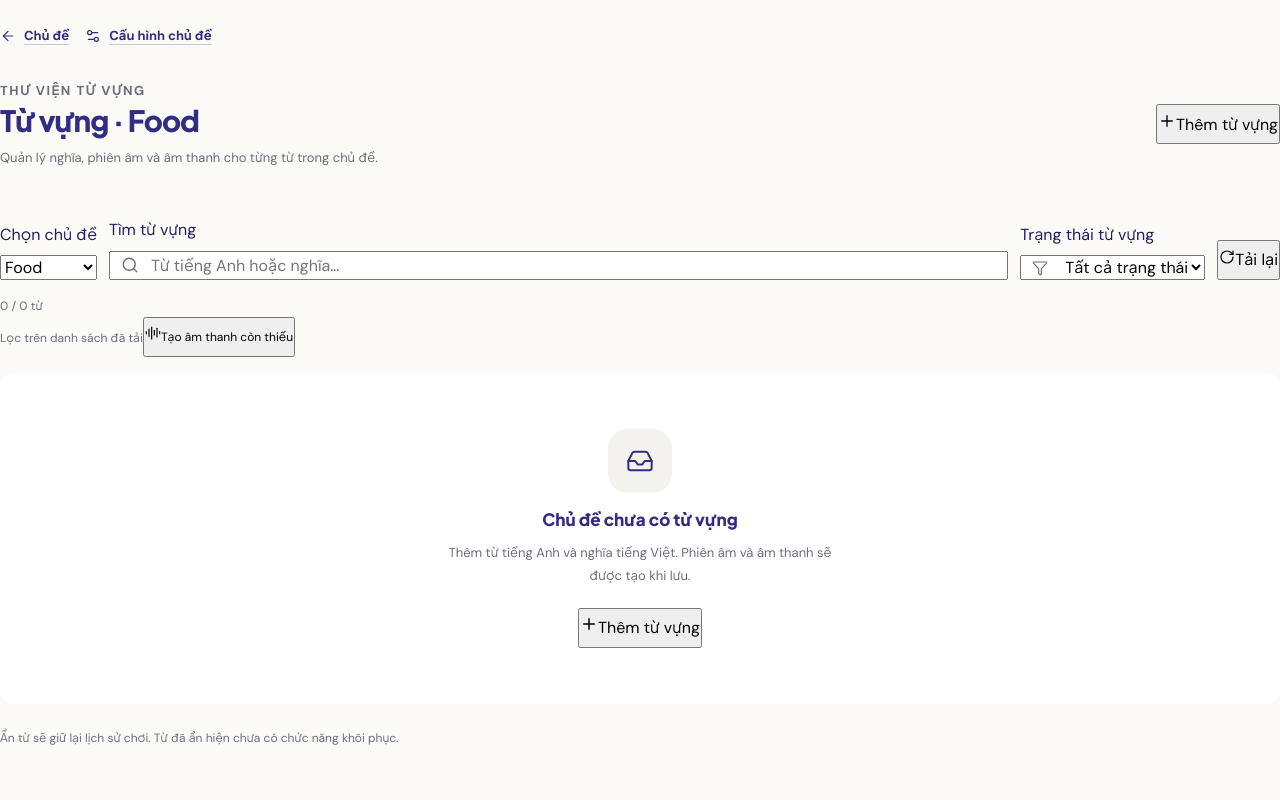
Test: reports partial backfill success and refetches vocabulary
Click the button "Tạo âm thanh còn thiếu".
click(219, 337)  # box [143, 317, 295, 357]
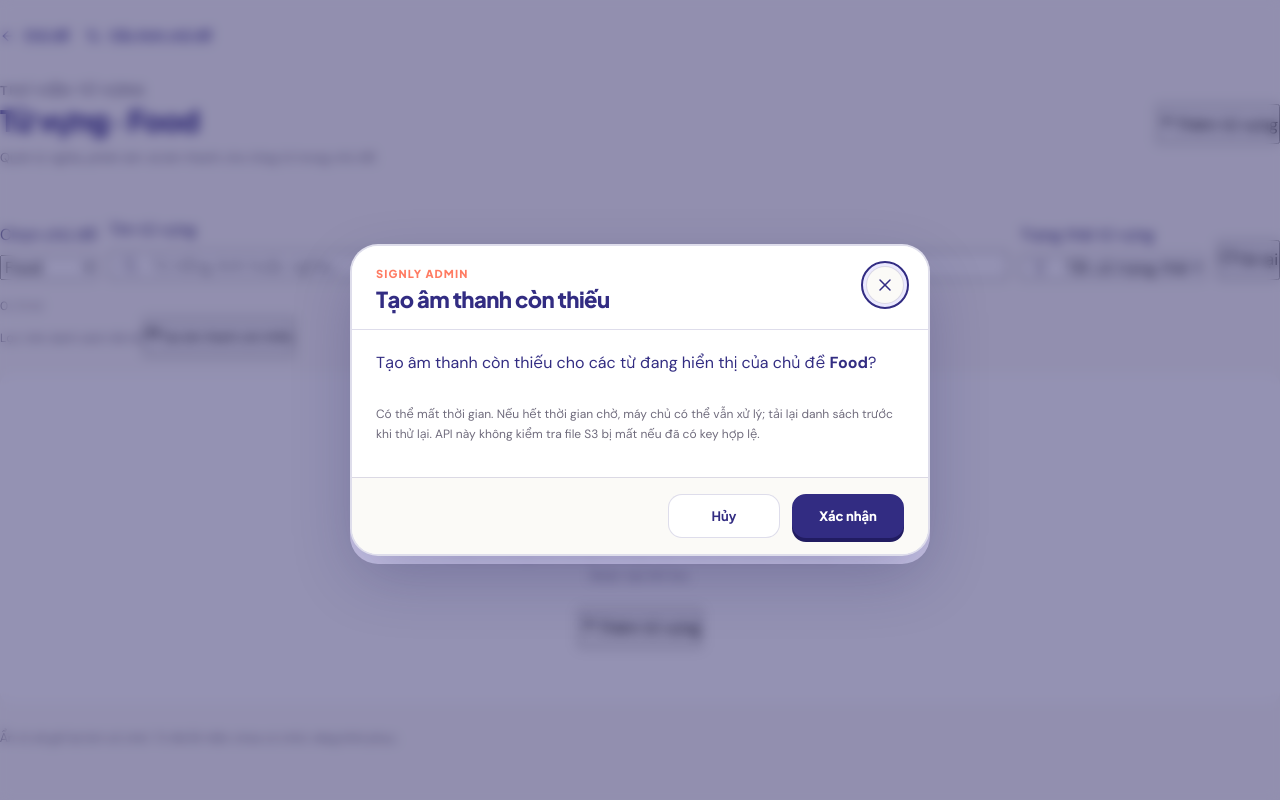
Click the button "Xác nhận".
click(848, 516)  # box [792, 494, 904, 538]
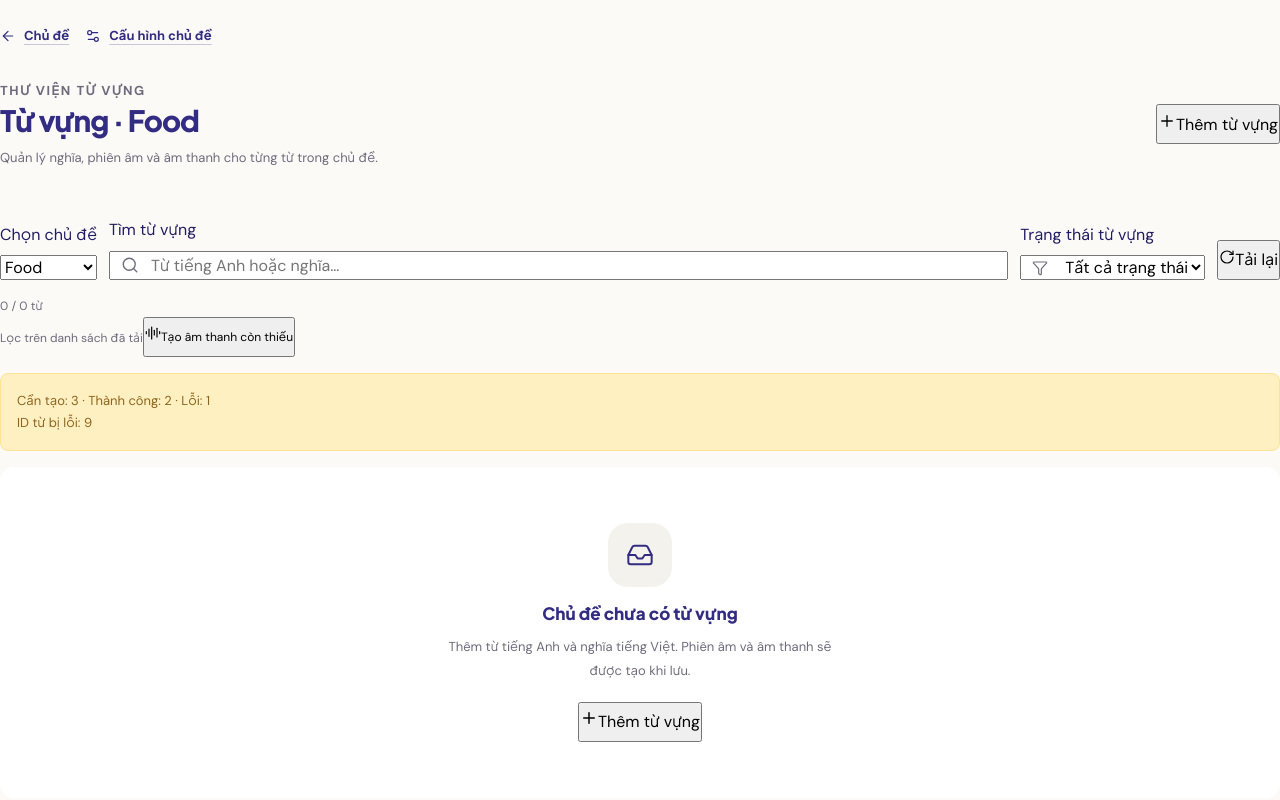
expect the text "Cần tạo: 3 · Thành công: 2 · Lỗi: 1" is shown: met, box [17, 392, 210, 409]
expect the text "ID từ bị lỗi: 9" is shown: met, box [17, 414, 92, 431]
